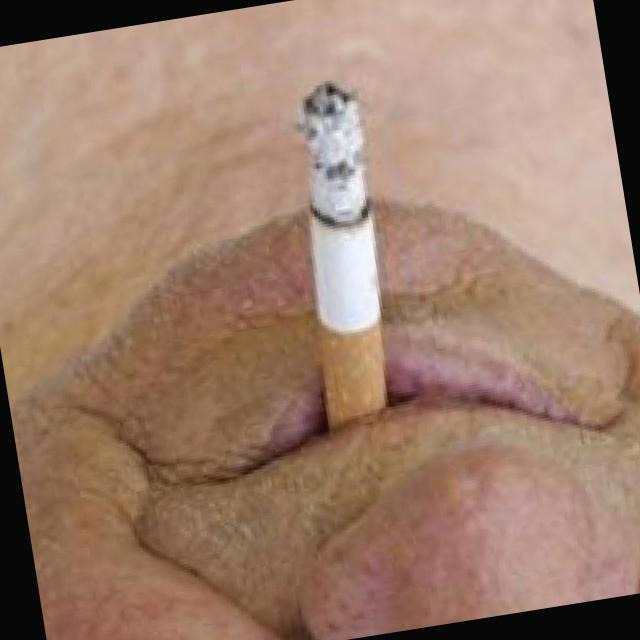smoke: (282, 73, 412, 428)
